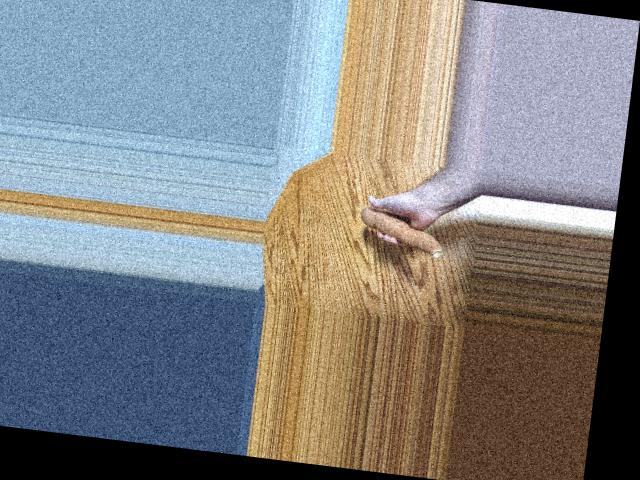sweet_potato: (356, 206, 449, 258)
